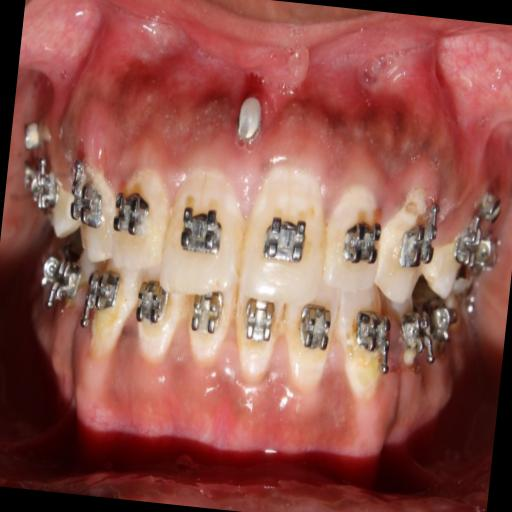correct_brace: (257, 206, 314, 274), (174, 200, 232, 261), (107, 190, 158, 244), (338, 215, 383, 268)
incorrect_brace: (102, 157, 174, 277), (321, 176, 389, 298)
